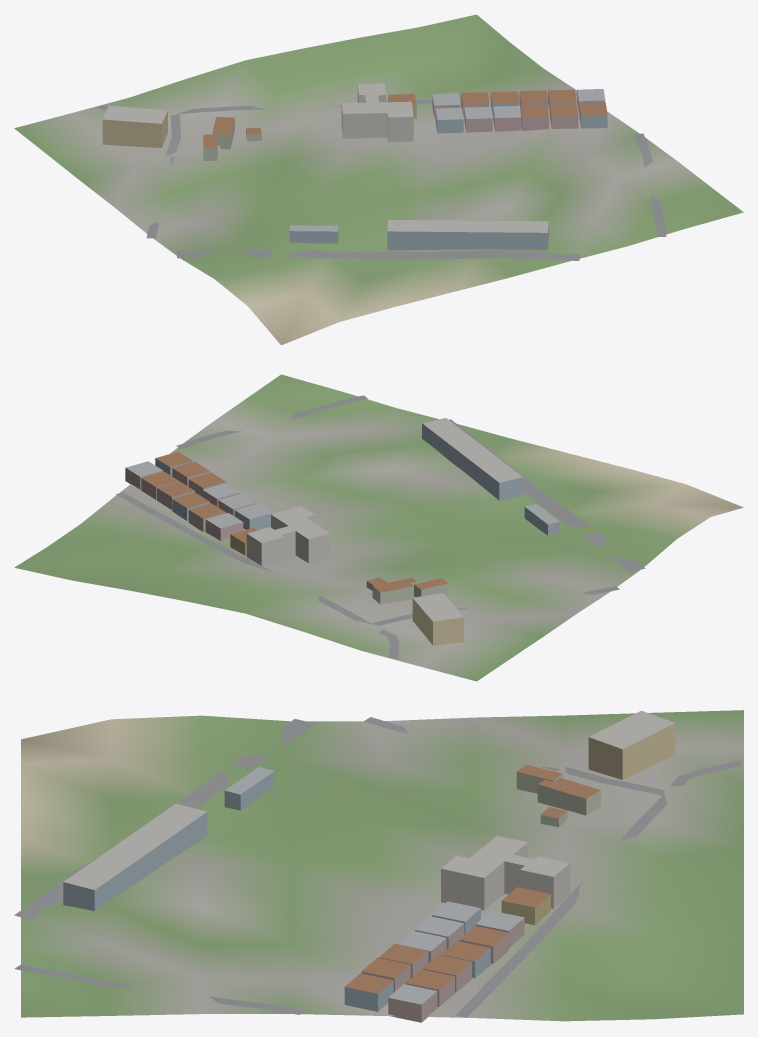
The picture shows the model from 3 angles, top to bottom: view 1: azimuth 30°, elevation 25°; view 2: azimuth 150°, elevation 25°; view 3: azimuth 270°, elevation 25°; orthographic projection. The views are drawn at different scales.
Visible parts, largest first — view 1: Lo; view 2: Lo; view 3: Lo.
Boxes of the visible parts, bbox=[...] form: Lo: bbox=[14, 14, 743, 345]; Lo: bbox=[14, 374, 743, 681]; Lo: bbox=[14, 710, 743, 1022].
Bounding box in the file's own units: 263 × 24.24 × 258.
